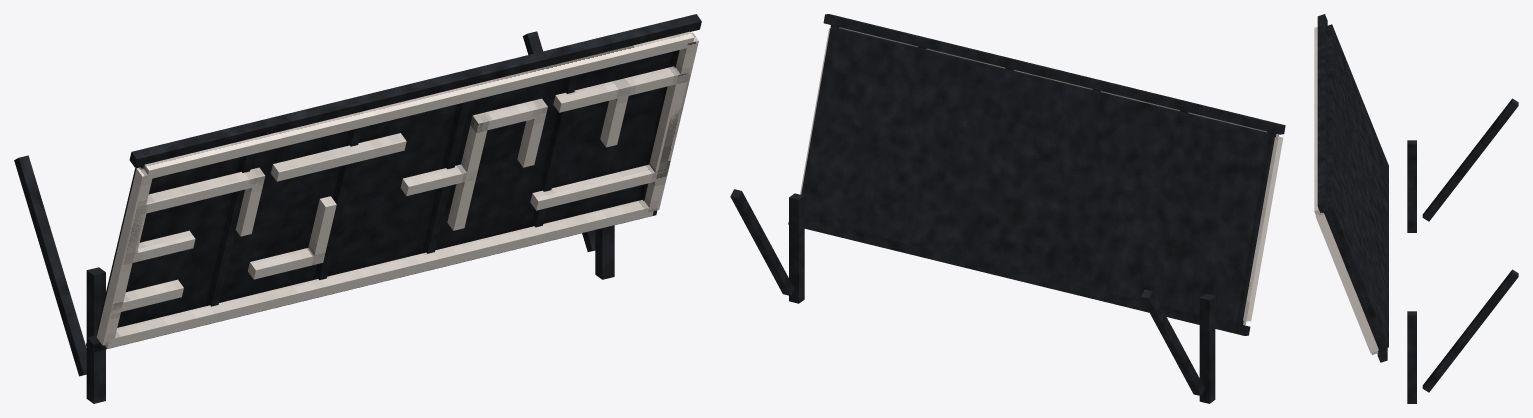
File: city_neon_roof.glb
The picture shows the model from 3 angles, left to right: view 1: azimuth 30°, elevation 25°; view 2: azimuth 150°, elevation 25°; view 3: azimuth 270°, elevation 25°; orthographic projection. The views are drawn at different scales.
Visible parts, largest first — view 1: city_neon_roof.001; view 2: city_neon_roof.001; view 3: city_neon_roof.001.
Boxes of the visible parts, x1=… form: city_neon_roof.001: x1=14, y1=14, x2=701, y2=403; city_neon_roof.001: x1=730, y1=14, x2=1285, y2=403; city_neon_roof.001: x1=1314, y1=14, x2=1518, y2=403.
Size of the model in its own units: 4.6 by 2.34 by 2.09.
2 materials, 2 textured.
